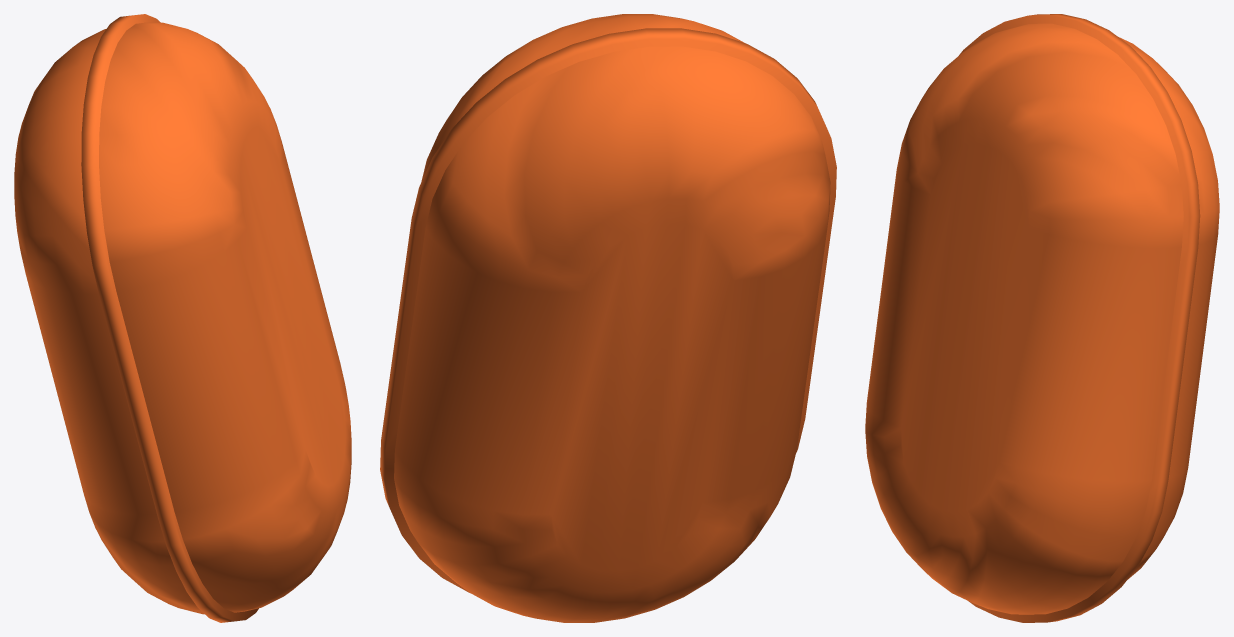
File: pastille.glb
The picture shows the model from 3 angles, left to right: view 1: azimuth 30°, elevation 25°; view 2: azimuth 150°, elevation 25°; view 3: azimuth 270°, elevation 25°; orthographic projection. The views are drawn at different scales.
Visible parts, largest first — view 1: bonbon dur v2; view 2: bonbon dur v2; view 3: bonbon dur v2.
Part boxes in pixels (x1,y1,x2,y2): bonbon dur v2: [14, 14, 351, 622]; bonbon dur v2: [380, 14, 836, 622]; bonbon dur v2: [865, 14, 1219, 622].
Size of the model in its own units: 0.0411 by 0.0672 by 0.0394.
